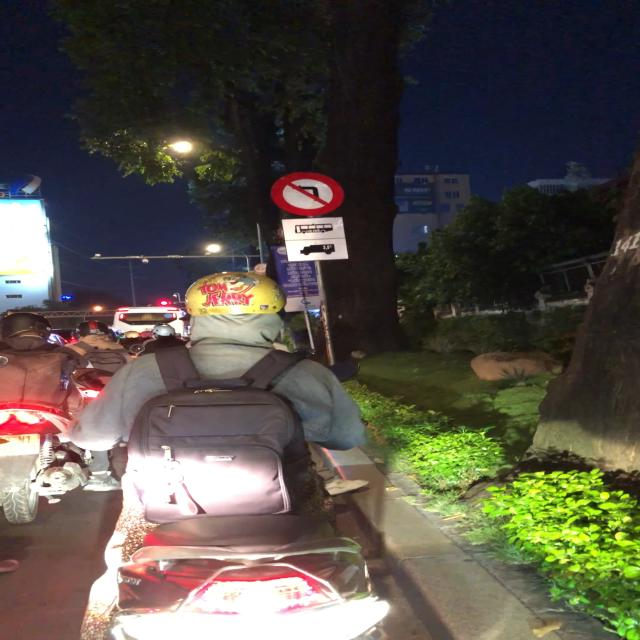Bien bao cam re trai: (264, 167, 346, 217)
